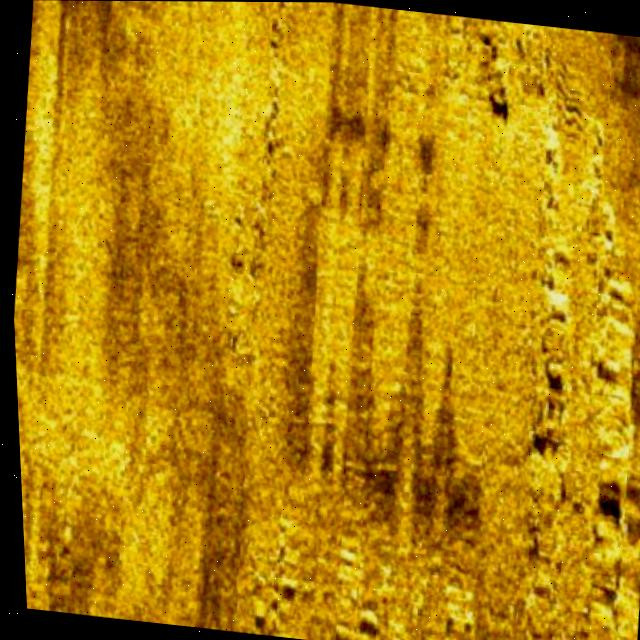bedrock group: (218, 1, 640, 640)
